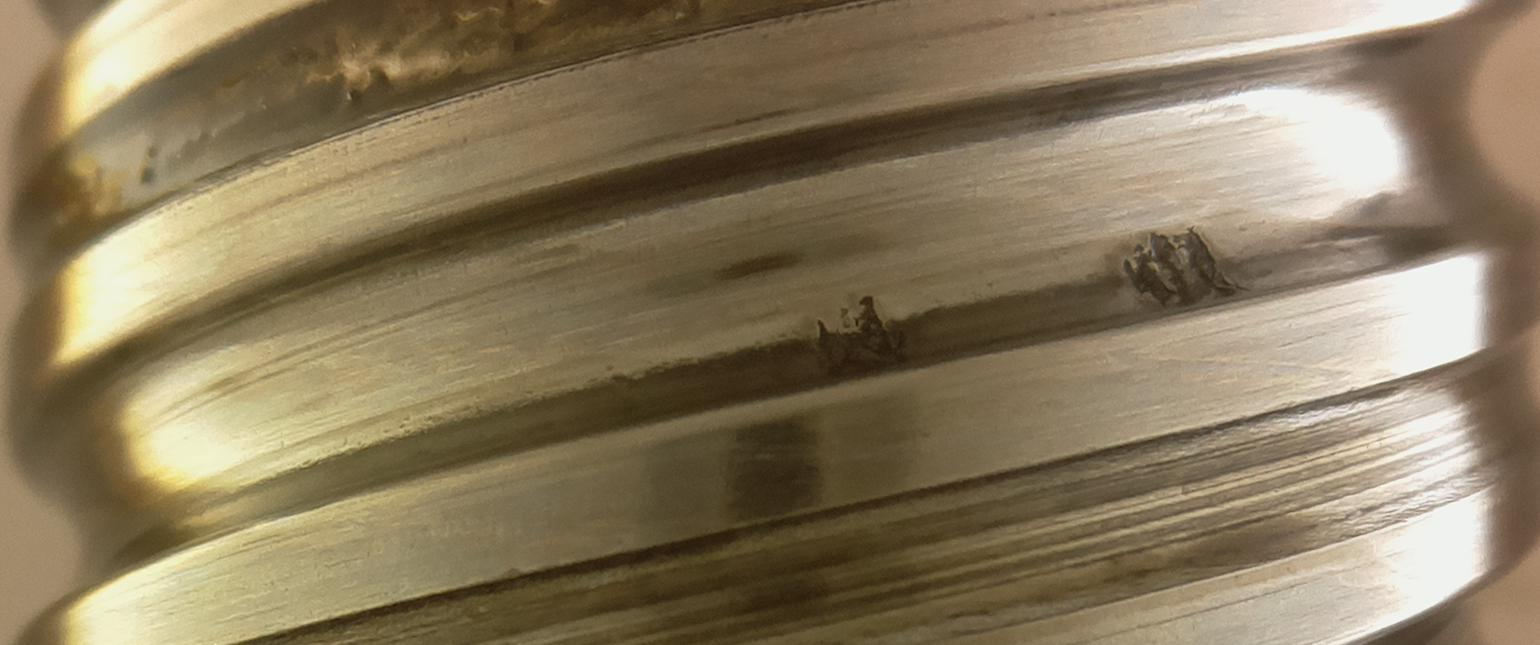pitting: (1123, 227, 1235, 307), (817, 296, 907, 378)
